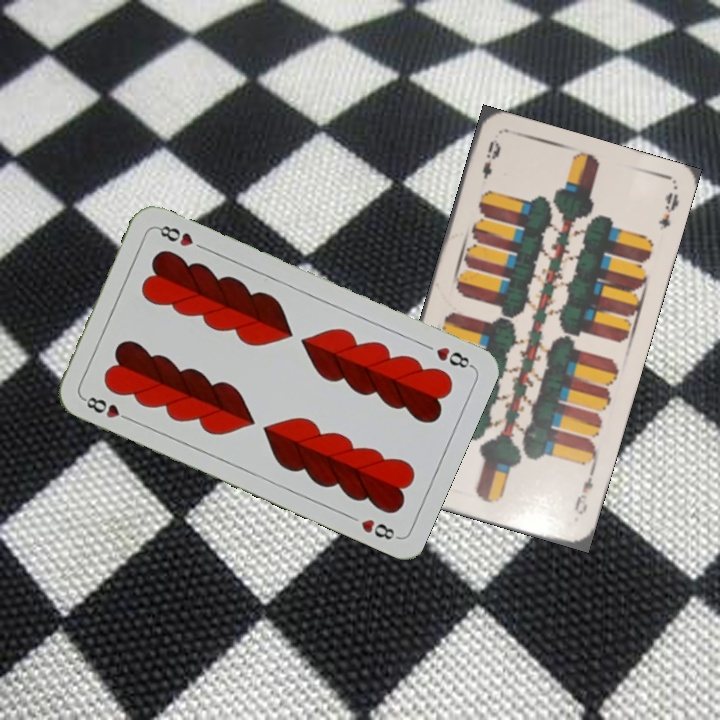E9: (570, 465, 597, 517), (478, 135, 504, 182)
H8: (79, 392, 135, 424), (432, 342, 475, 371)
